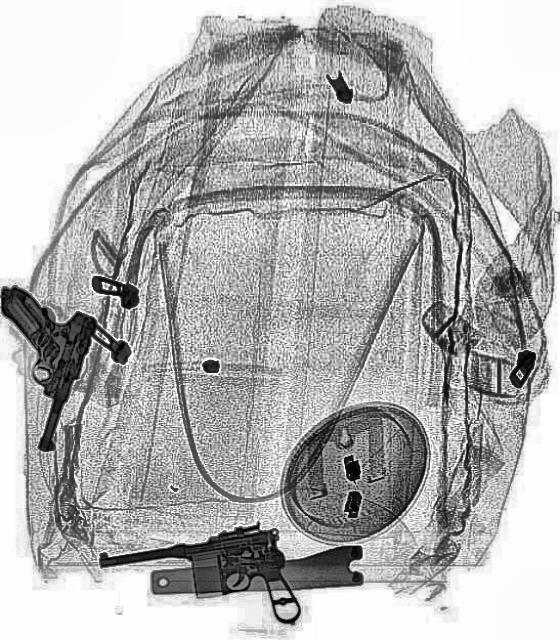Gun: (92, 524, 290, 638), (0, 286, 96, 450)
